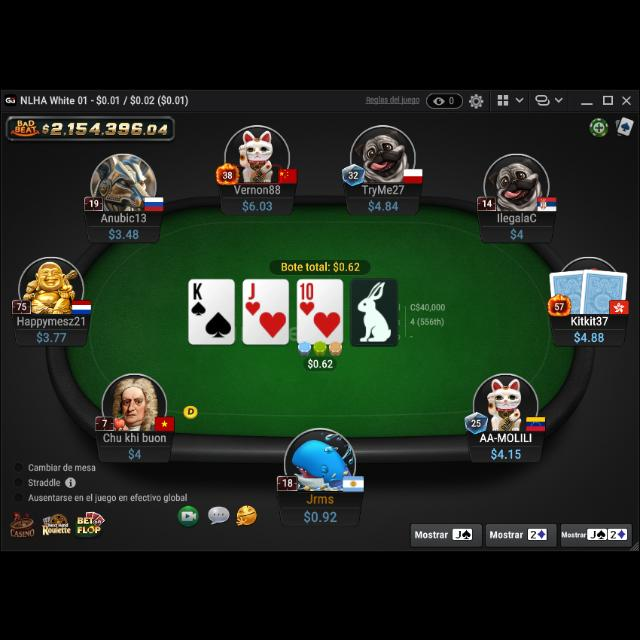Jh: (244, 279, 262, 317)
Ks: (190, 280, 210, 316)
Th: (297, 280, 317, 318)
bet_text: (306, 356, 336, 369)
card_back: (578, 266, 630, 318), (548, 266, 592, 316)
dealer: (180, 403, 200, 419)
pot_text: (281, 260, 364, 272)
stack_text: (302, 506, 340, 524), (240, 198, 276, 215), (107, 225, 141, 242), (366, 198, 399, 215), (34, 328, 68, 344), (489, 444, 523, 460), (571, 329, 605, 343), (126, 445, 144, 463), (510, 226, 526, 240)
